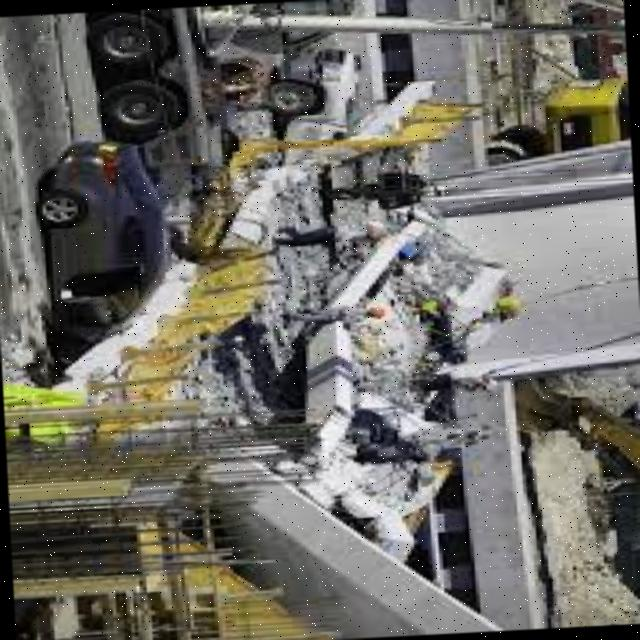bridge collapse: (0, 46, 562, 640)
